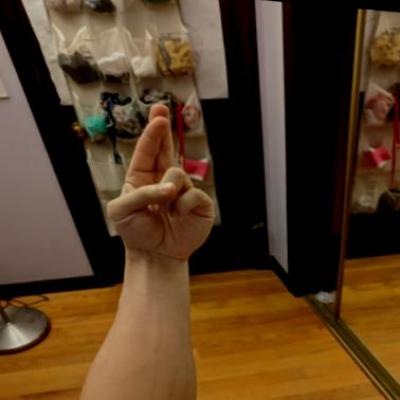hand: (94, 94, 225, 266)
